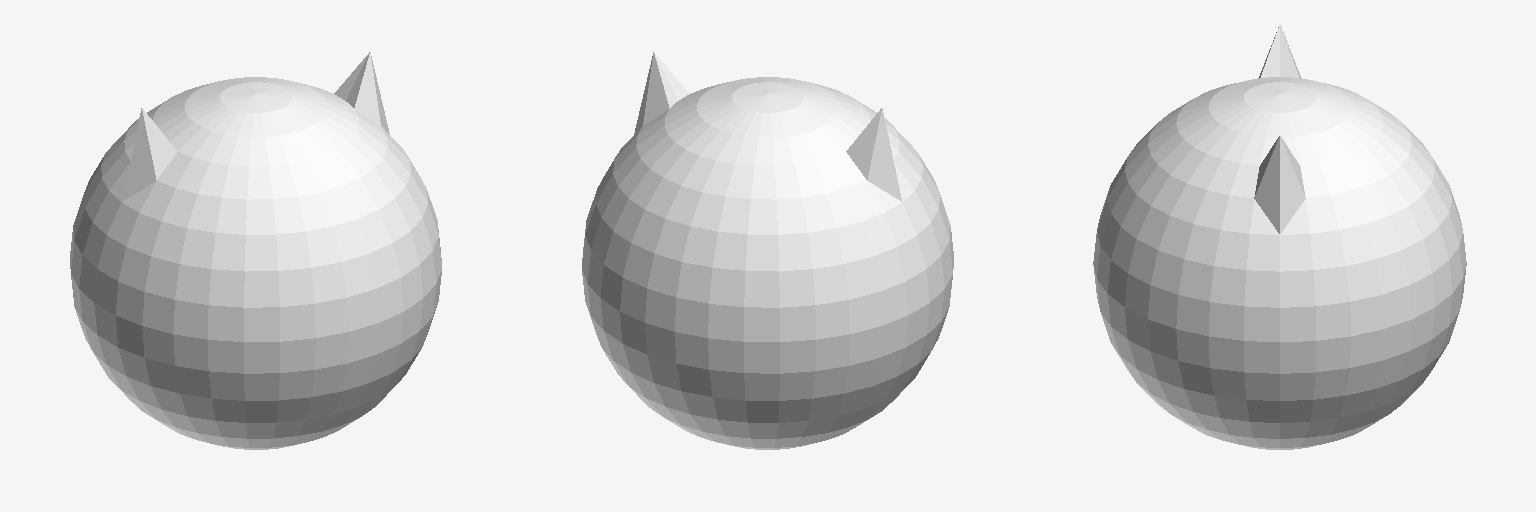
The picture shows the model from 3 angles: view 1: azimuth 30°, elevation 25°; view 2: azimuth 150°, elevation 25°; view 3: azimuth 270°, elevation 25°; orthographic projection.
Visible parts, largest first — view 1: 球; view 2: 球; view 3: 球.
Part boxes in pixels (x1,y1,x2,y2): 球: (70,52,441,449); 球: (582,52,953,449); 球: (1093,25,1466,449).
Bounding box in the file's own units: 2 × 2.09 × 2.
1 materials, 1 textured.